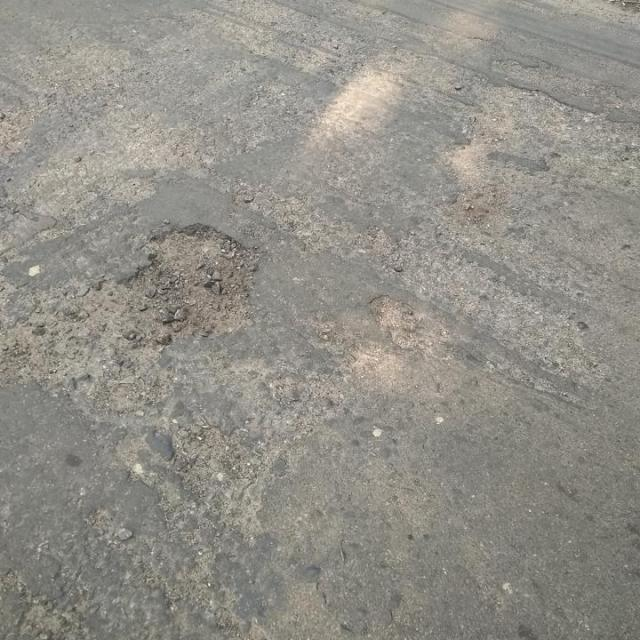Pothole: (124, 221, 269, 337), (168, 422, 280, 541), (368, 294, 423, 350)
